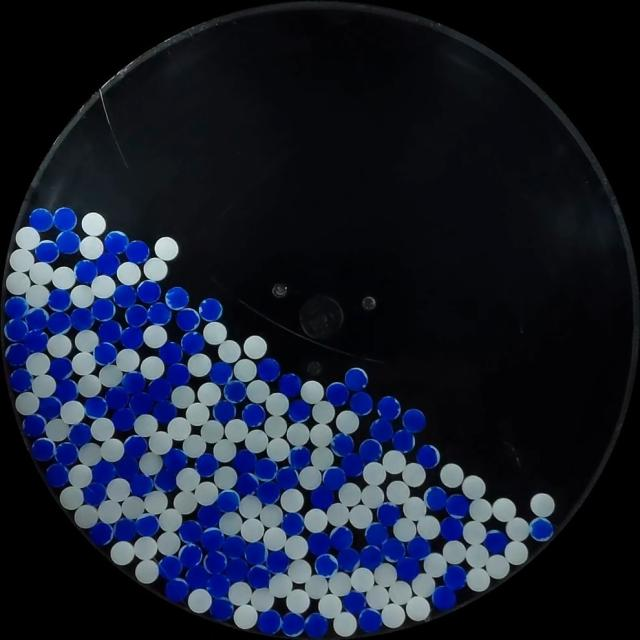pmmma-azul: (161, 448, 188, 474), (222, 534, 248, 560), (45, 462, 70, 488), (196, 502, 221, 528), (257, 609, 282, 635), (164, 577, 190, 602), (232, 449, 257, 474), (406, 536, 431, 561), (439, 516, 464, 541), (166, 362, 191, 387), (5, 342, 30, 367), (206, 573, 231, 598), (395, 556, 420, 581), (483, 530, 508, 555), (128, 472, 153, 497), (376, 395, 401, 420), (266, 551, 291, 576), (30, 438, 56, 462), (148, 376, 174, 400), (48, 357, 74, 381), (158, 341, 184, 365), (198, 298, 224, 322), (96, 250, 120, 276), (4, 318, 30, 342), (528, 517, 554, 541), (47, 288, 72, 312), (91, 461, 116, 485), (304, 612, 328, 637), (4, 296, 29, 320), (178, 520, 203, 544), (445, 493, 469, 518), (158, 554, 182, 579), (342, 590, 367, 614), (358, 608, 382, 633), (200, 527, 224, 552), (22, 413, 46, 438), (74, 259, 98, 284), (281, 611, 305, 636), (129, 391, 154, 415), (47, 310, 72, 334), (307, 531, 331, 556), (112, 407, 137, 431), (278, 372, 302, 397), (24, 328, 48, 353), (54, 378, 78, 403), (341, 452, 365, 477), (370, 417, 394, 442), (56, 230, 81, 254), (310, 485, 334, 510), (330, 432, 354, 457), (29, 208, 54, 232), (443, 564, 467, 589), (432, 585, 456, 610), (82, 482, 107, 506), (359, 544, 382, 570), (146, 302, 172, 325), (124, 240, 150, 263), (121, 371, 147, 394), (181, 330, 205, 354), (84, 396, 108, 420), (152, 400, 176, 424), (137, 280, 161, 304), (254, 458, 278, 482), (234, 471, 258, 495), (113, 517, 137, 541), (216, 489, 240, 513), (89, 521, 113, 545), (94, 342, 118, 366), (247, 564, 271, 588), (329, 526, 353, 550), (114, 284, 138, 308), (376, 502, 400, 526), (209, 361, 233, 385), (322, 466, 346, 490), (105, 385, 129, 409), (256, 481, 280, 505), (381, 537, 405, 561), (124, 434, 148, 458), (55, 442, 79, 466), (38, 396, 62, 420), (402, 408, 426, 432), (53, 207, 77, 231), (68, 422, 92, 446), (70, 306, 94, 330), (125, 304, 149, 328), (116, 457, 140, 481), (242, 402, 265, 427), (424, 486, 447, 511), (176, 308, 201, 331), (104, 231, 129, 254), (209, 597, 234, 620), (165, 287, 190, 310), (152, 470, 178, 492), (344, 367, 368, 390), (282, 512, 305, 536), (365, 522, 388, 546), (10, 368, 33, 392), (350, 391, 373, 415), (245, 541, 268, 565), (314, 553, 338, 576), (98, 320, 121, 344), (120, 326, 144, 349), (195, 453, 218, 477), (359, 438, 382, 462), (179, 543, 202, 567), (337, 547, 360, 571), (416, 444, 439, 468), (204, 550, 227, 574), (35, 240, 59, 263), (25, 307, 49, 330), (276, 466, 298, 491), (134, 514, 159, 536), (392, 427, 414, 452), (226, 557, 248, 582), (92, 298, 115, 321), (258, 357, 280, 381), (326, 382, 348, 406), (213, 400, 235, 423), (288, 400, 311, 422), (289, 446, 311, 469), (224, 380, 246, 402), (187, 566, 209, 586)
